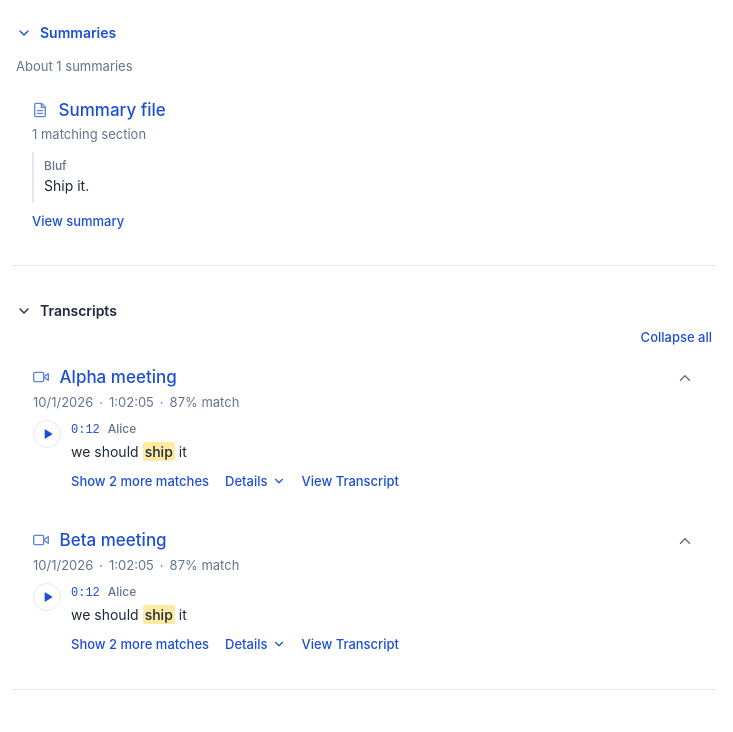
Scenario: SearchResultsBody — info panel › narrow layout renders no aside; Details expands inline instead
Click the button "Details" below "Alpha meeting" at [255, 482], box [225, 472, 286, 492]
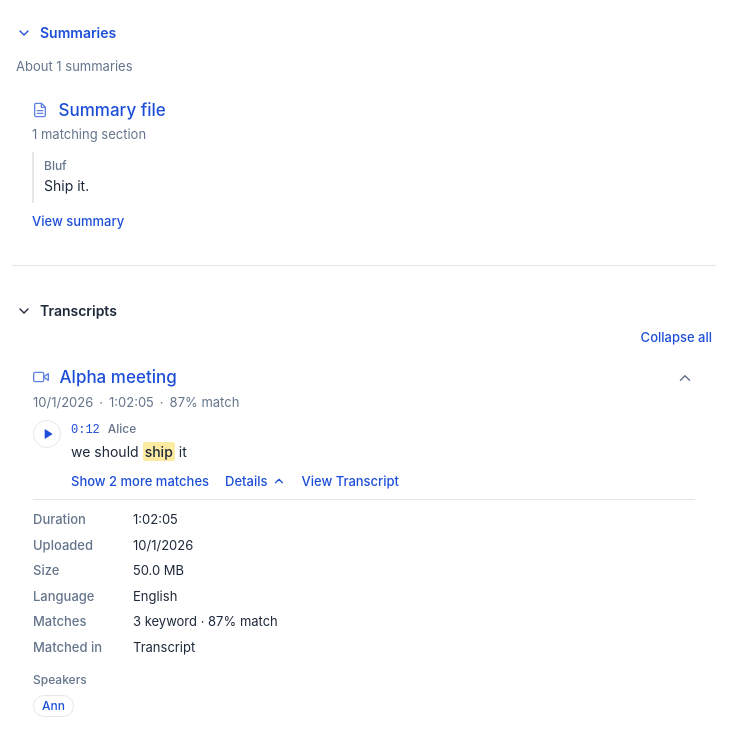
Now the button "Details" is expanded, box [225, 472, 286, 492]
Now the list item "Ann" is shown, box [33, 696, 74, 718]
